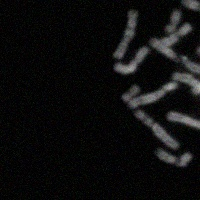chromosome: (148, 37, 200, 73), (135, 109, 179, 148), (171, 72, 200, 123), (127, 82, 178, 107), (113, 11, 136, 59), (152, 23, 191, 51), (115, 46, 149, 74), (166, 111, 200, 134), (156, 149, 191, 167), (165, 9, 180, 34), (181, 0, 200, 17), (121, 85, 138, 103), (192, 65, 200, 95), (196, 33, 200, 56)
